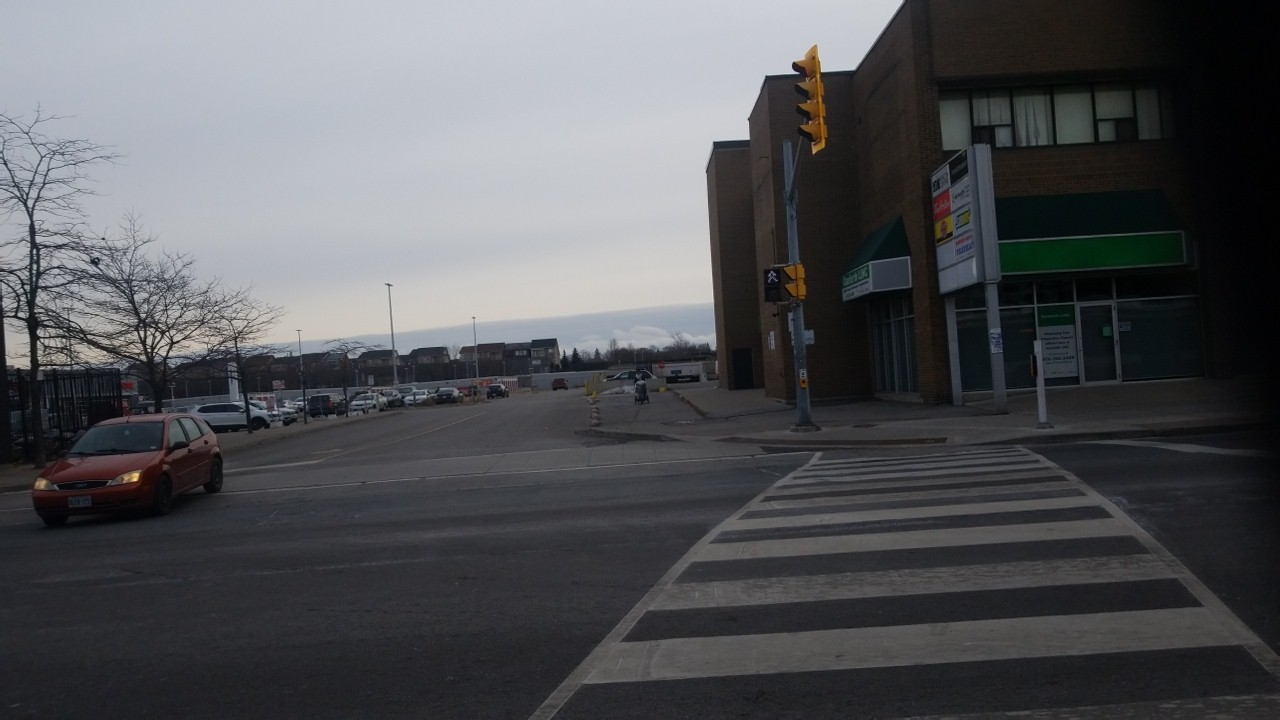light: (760, 264, 784, 306)
